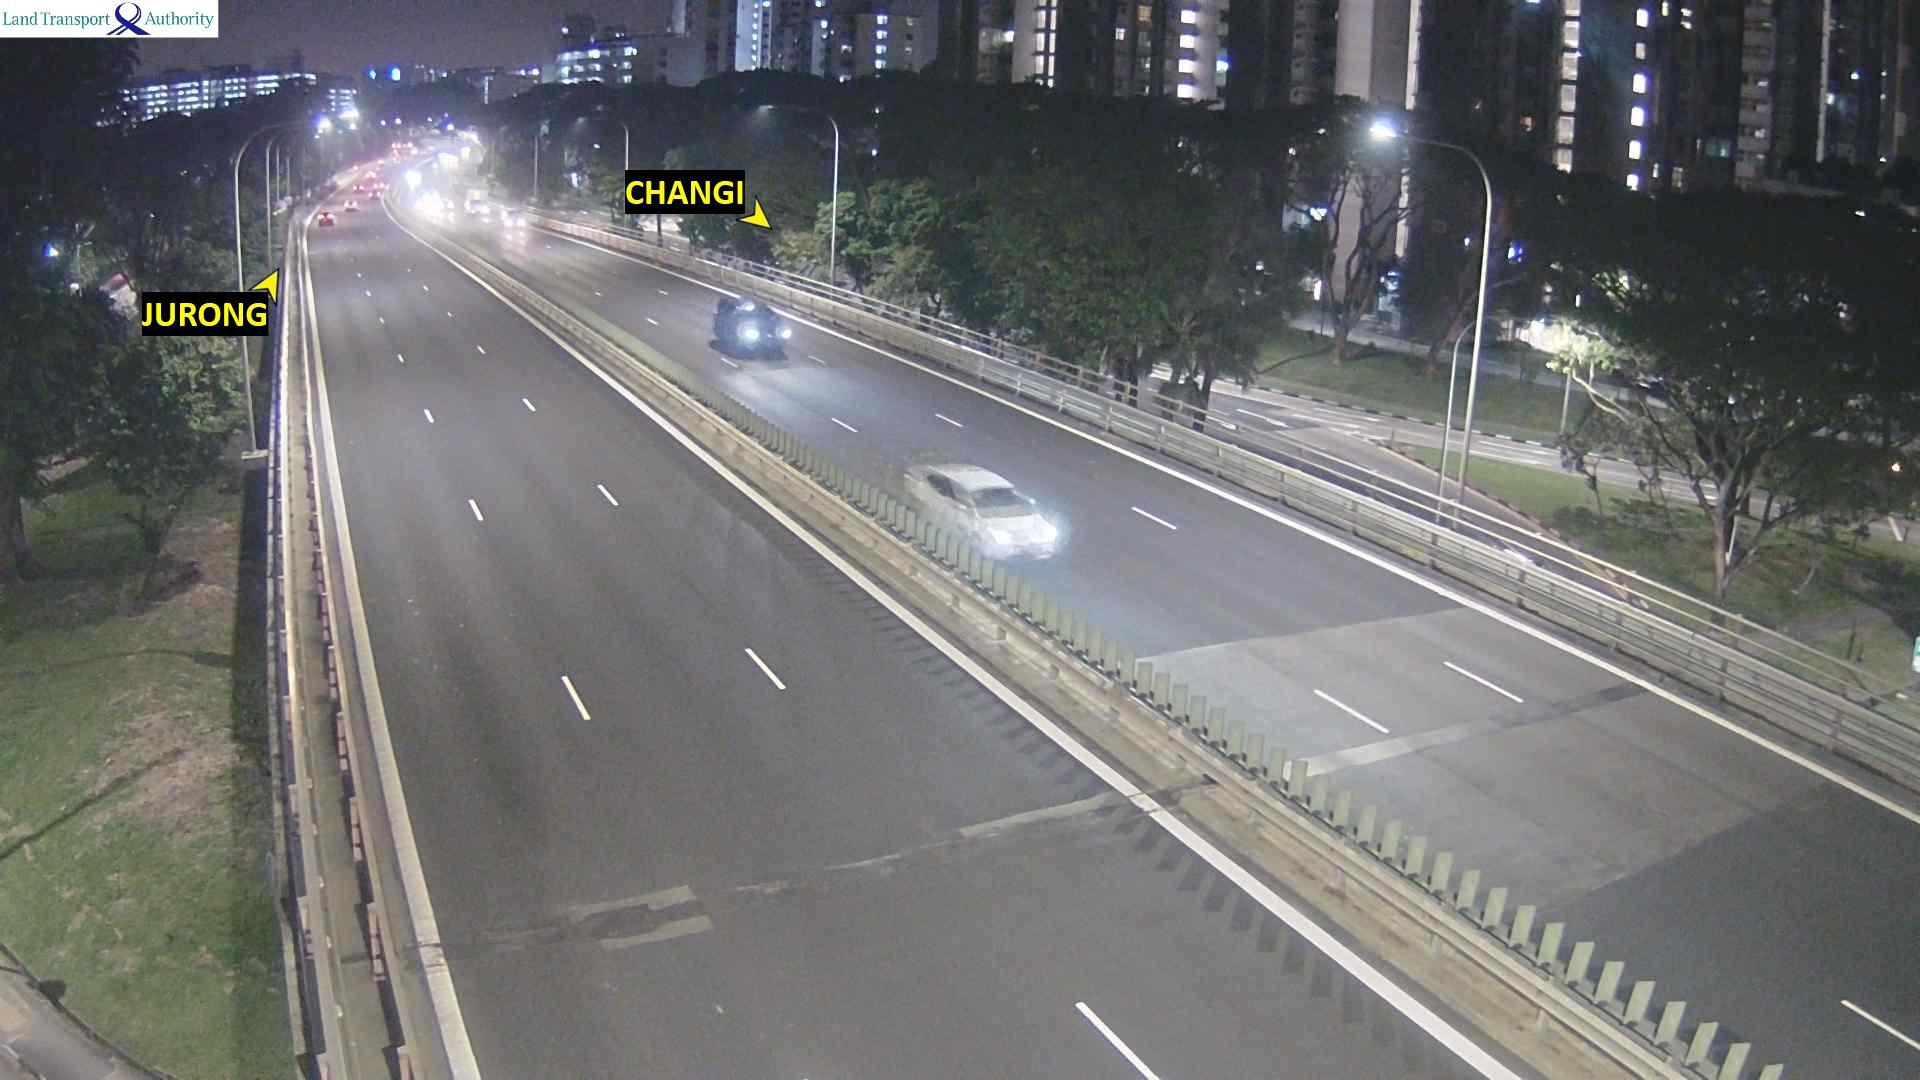cars: (900, 459, 1060, 562), (711, 294, 791, 359), (499, 206, 532, 233), (464, 187, 487, 214), (404, 169, 426, 188), (315, 210, 335, 227), (438, 197, 458, 211), (343, 197, 359, 211), (368, 188, 383, 202), (363, 169, 378, 180), (372, 179, 386, 190), (352, 183, 366, 193), (391, 140, 403, 150), (376, 156, 386, 165)
